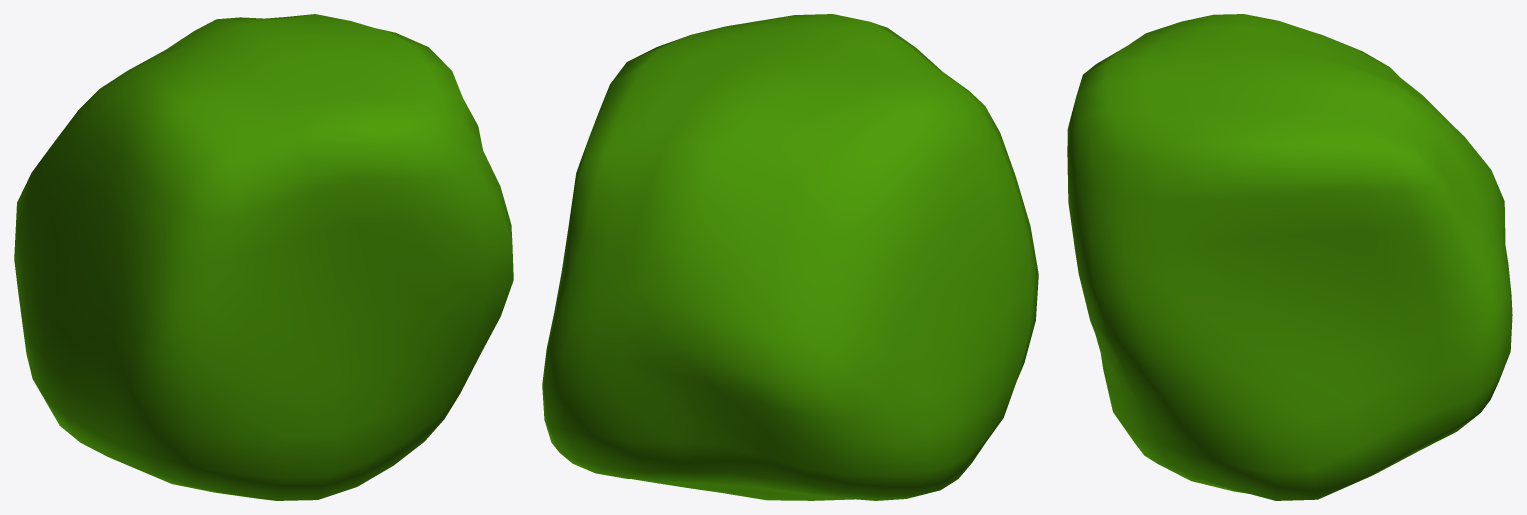
The model's file is projectile.fbx.
3 views of the same model, side by side, from view 1: azimuth 30°, elevation 25°; view 2: azimuth 150°, elevation 25°; view 3: azimuth 270°, elevation 25° (orthographic). The views are drawn at different scales.
Visible parts, largest first — view 1: projectile; view 2: projectile; view 3: projectile.
Boxes of the visible parts, x1,y1,x2,y2 form: projectile: (14, 14, 513, 500); projectile: (542, 14, 1038, 500); projectile: (1067, 14, 1512, 500).
Bounding box in the file's own units: 14.88 × 15.45 × 15.82.
